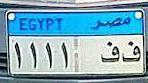1: (27, 41, 39, 71), (44, 41, 55, 71), (14, 40, 24, 69), (61, 41, 71, 68)
faa: (121, 39, 142, 66), (99, 40, 120, 66)
